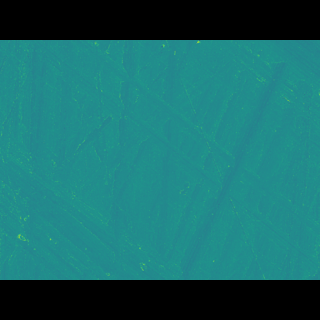Loch: (20, 68, 319, 240), (0, 140, 184, 250)
